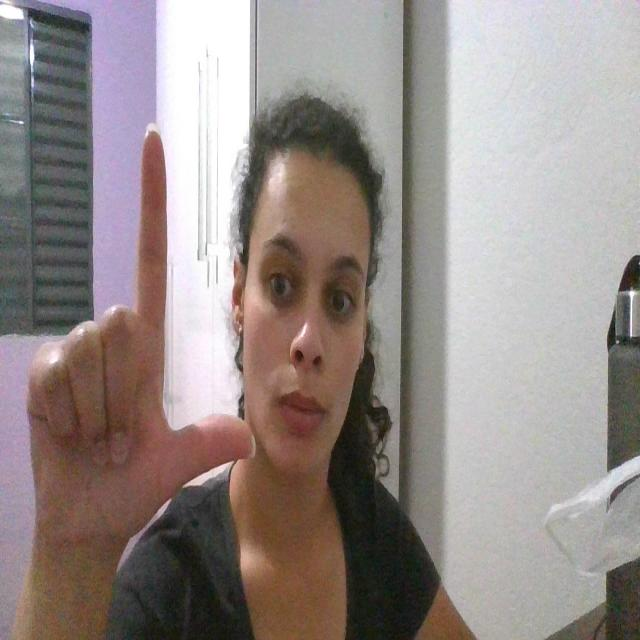L: (22, 121, 261, 539)
